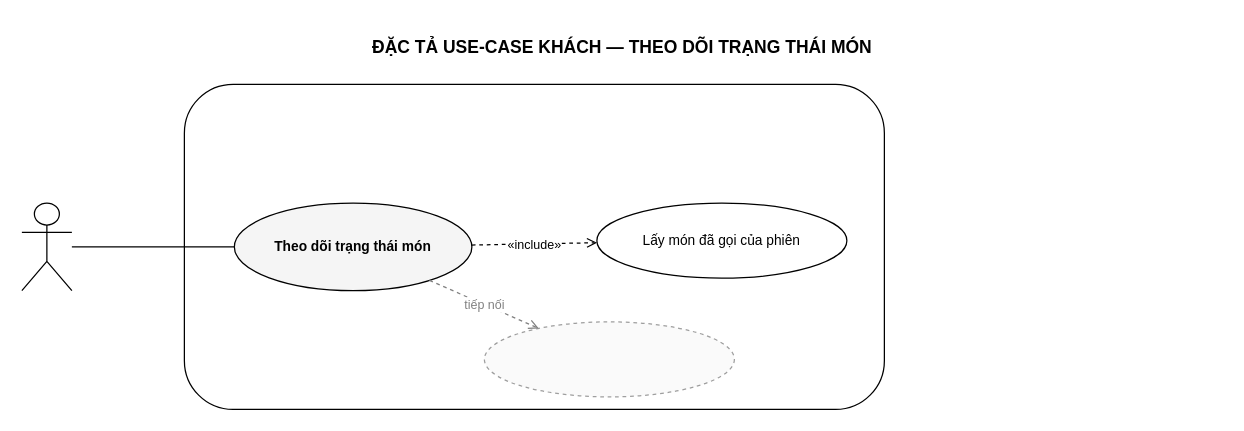
This 1244x431 diagram has some shape labels left out. The shapes that lost their labels are listed below. From the top down, each one's box as (x1, y1, x2, y2) in pixels, then its label:
(21, 202, 72, 291): Khách
(483, 321, 734, 397): Đặt món / Gọi thêm món (UC-03, UC-04)
